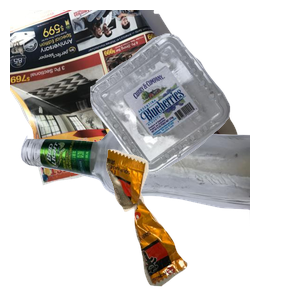glass: (18, 124, 258, 300)
paper: (10, 10, 241, 188)
plastic: (88, 31, 300, 198)
trash: (103, 147, 300, 300)
